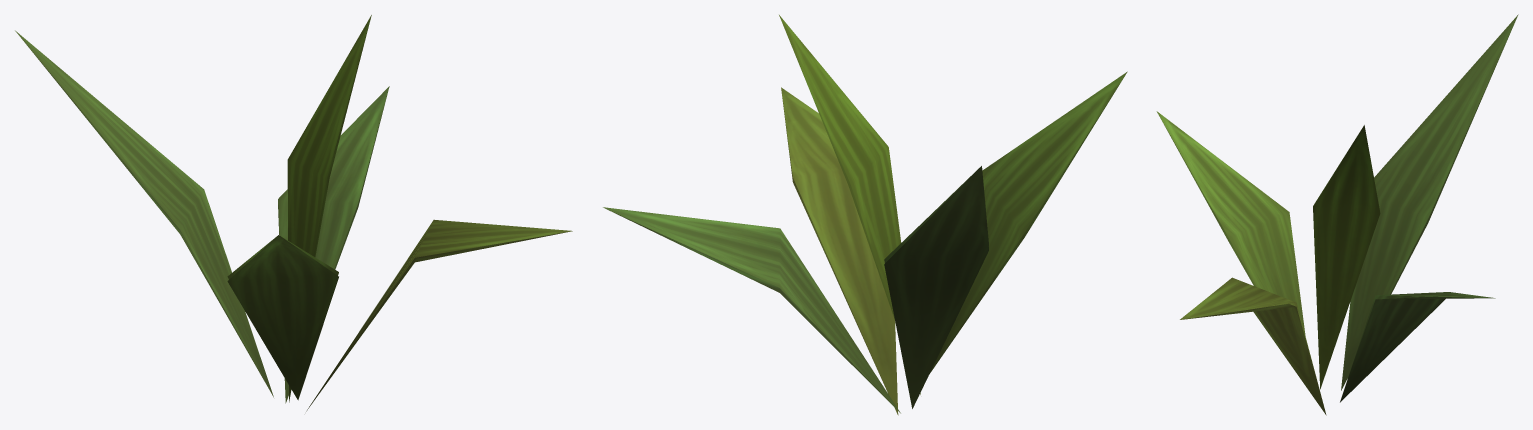
File: grass1_2.FBX
The picture shows the model from 3 angles, left to right: view 1: azimuth 30°, elevation 25°; view 2: azimuth 150°, elevation 25°; view 3: azimuth 270°, elevation 25°; orthographic projection. The views are drawn at different scales.
Parts seen in each view (by area): view 1: grass1_2; view 2: grass1_2; view 3: grass1_2.
Part boxes in pixels (x1=…): grass1_2: x1=15, y1=15, x2=572, y2=411; grass1_2: x1=603, y1=15, x2=1127, y2=415; grass1_2: x1=1156, y1=14, x2=1518, y2=415.
Size of the model in its own units: 31.35 by 29.33 by 29.1.
Materials: 1 (1 with a texture image).
